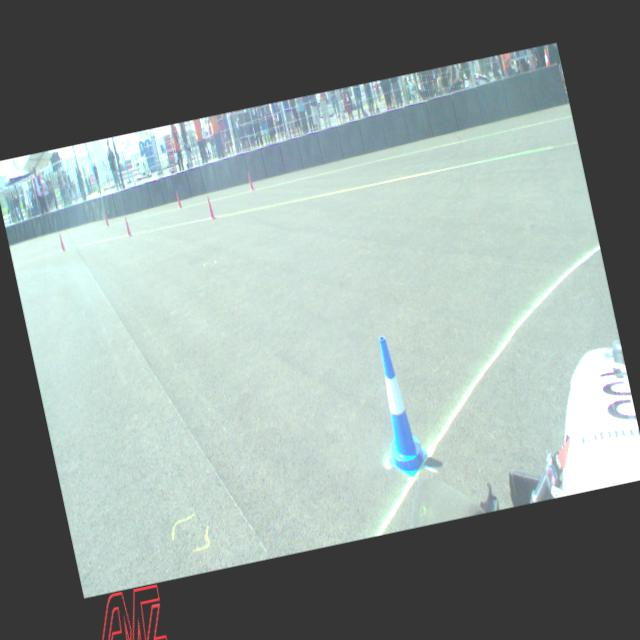blue_cone: (363, 332, 431, 481)
unknown_cone: (204, 194, 216, 220), (122, 214, 132, 237), (245, 170, 254, 190), (57, 232, 65, 250), (174, 190, 182, 208), (102, 211, 110, 227)
